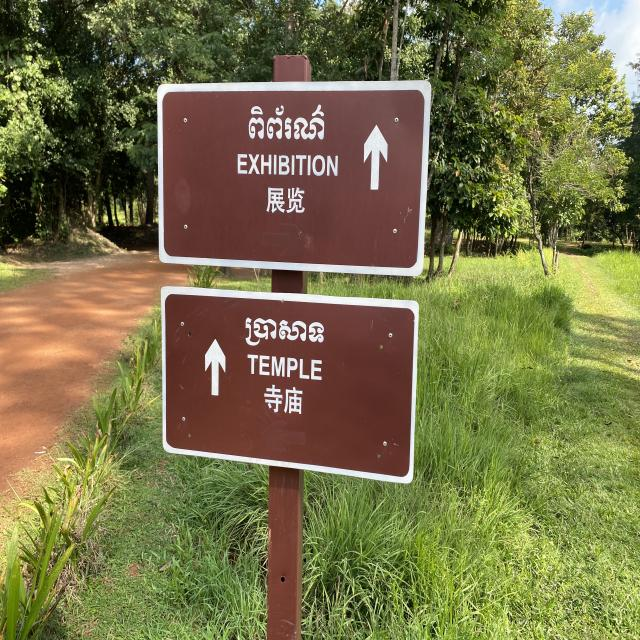Yolov11kh: (242, 306, 327, 357), (245, 98, 327, 145)
